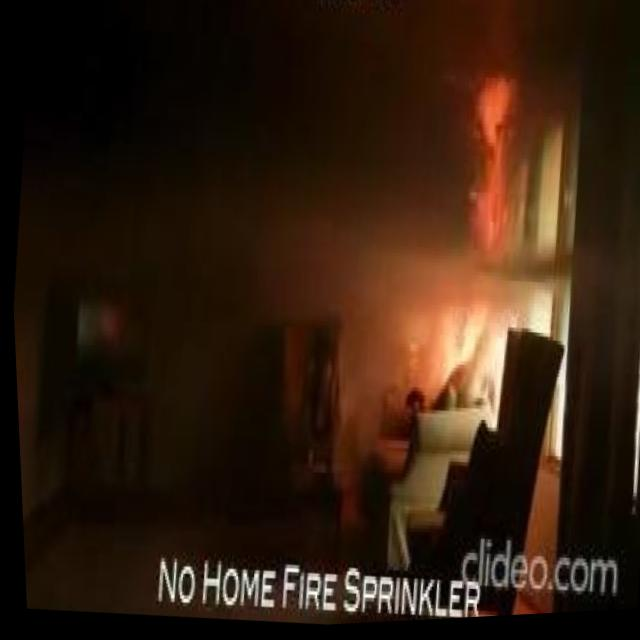fire: (450, 76, 524, 269), (430, 301, 491, 387)
